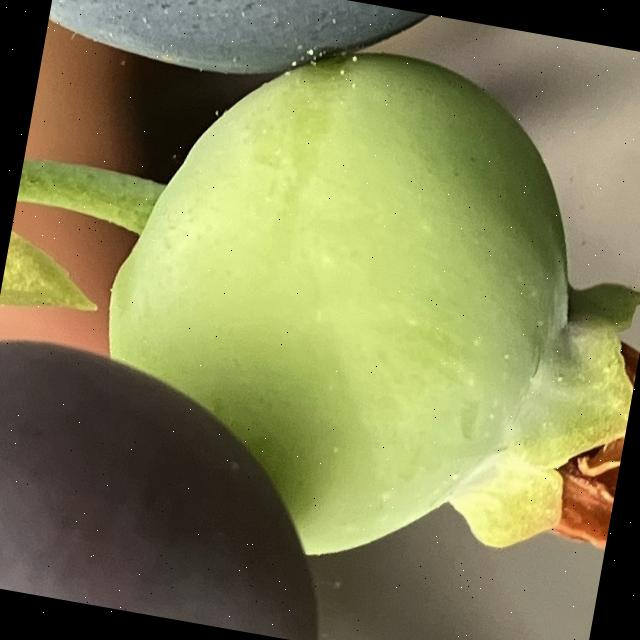Blueberries: (63, 11, 640, 612), (0, 332, 366, 640)
